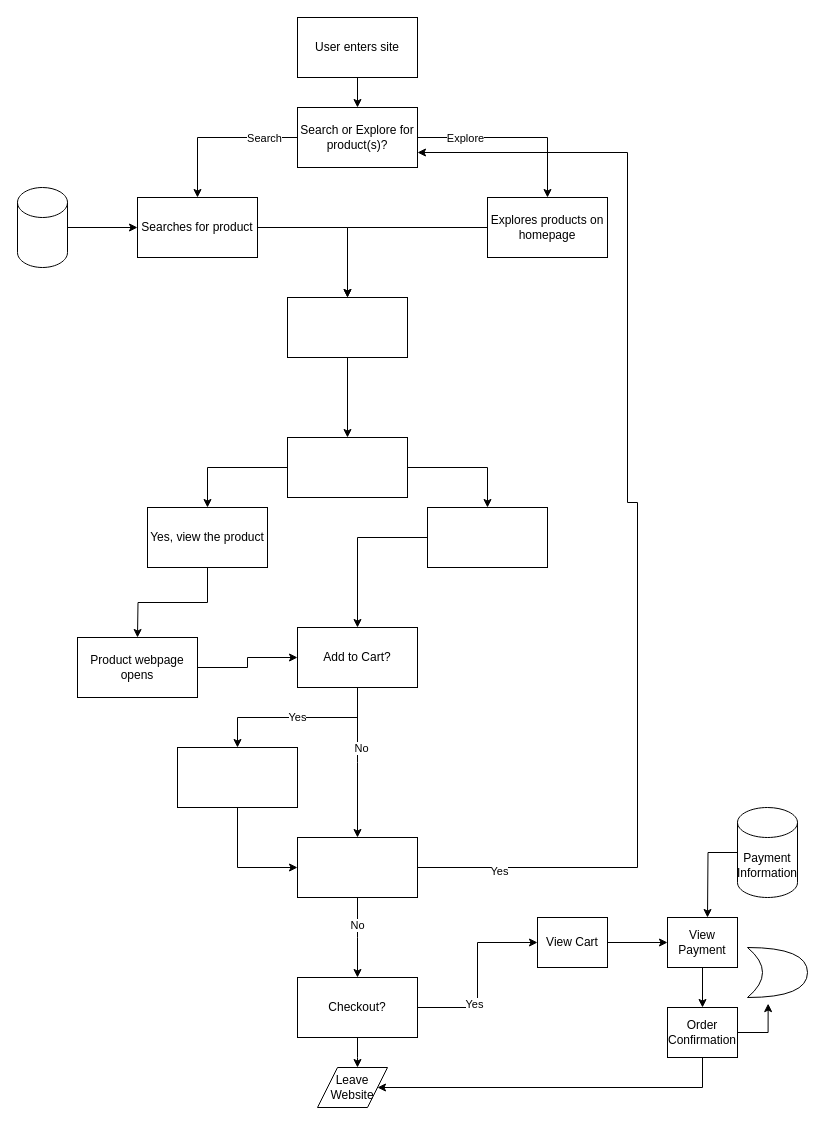
The diagram is 825 pixels wide and 1125 high, and some of its shapes have lost their labels. Here are the shapes that lost their labels. From the top down, the box of each, then its label:
(16, 186, 68, 268): Search input
(286, 296, 408, 358): Begins to look over products
(286, 436, 408, 498): Option of viewing specific product
(426, 506, 548, 568): No, don't view the product
(176, 746, 298, 808): Cart Confirmation Page
(296, 836, 418, 898): Continue Shopping?
(746, 946, 808, 998): email sent
